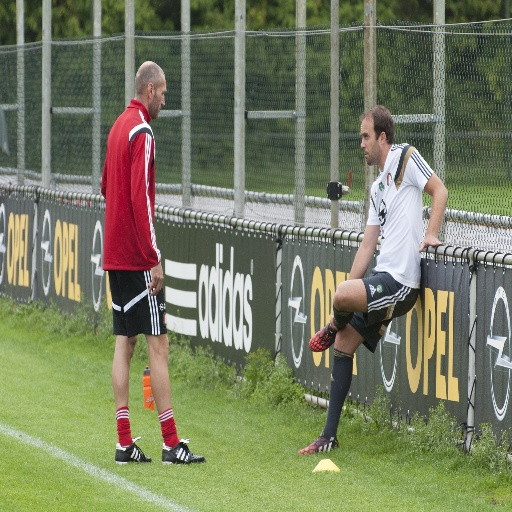hand: (147, 258, 164, 298), (419, 233, 442, 252)
